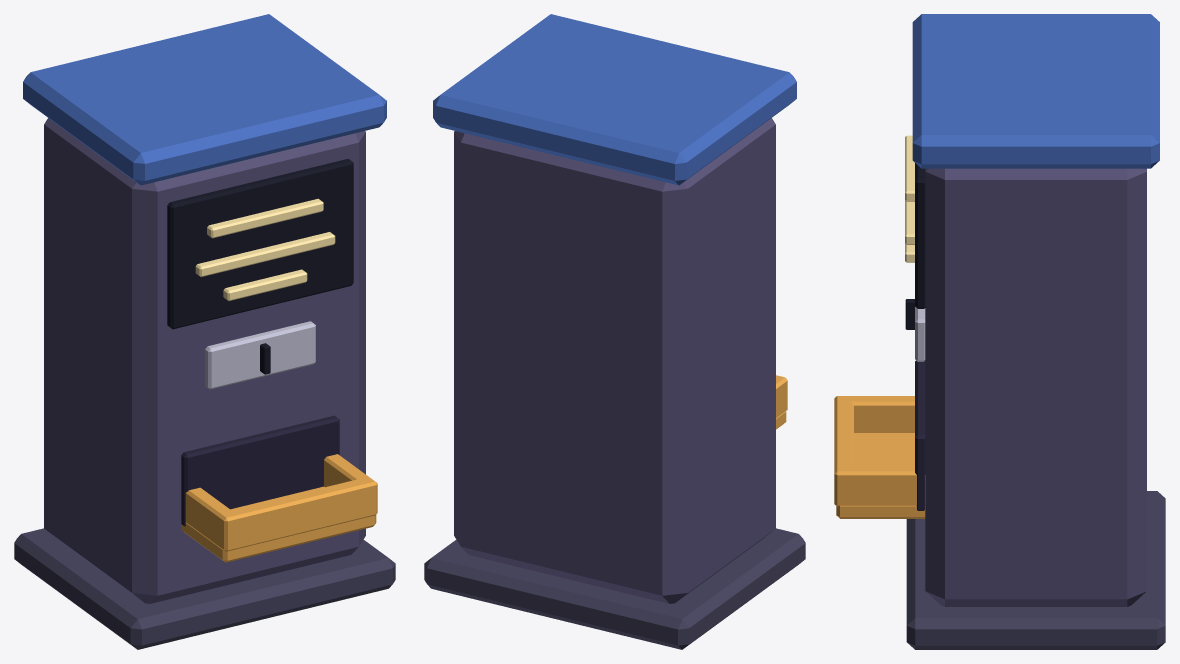
File: 05_Token_Exchange_Kiosk.glb
The picture shows the model from 3 angles, left to right: view 1: azimuth 30°, elevation 25°; view 2: azimuth 150°, elevation 25°; view 3: azimuth 270°, elevation 25°; orthographic projection. The views are drawn at different scales.
Visible parts, largest first — view 1: 05_Token_Exchange_Kiosk__Body; view 2: 05_Token_Exchange_Kiosk__Body; view 3: 05_Token_Exchange_Kiosk__Body.
Part boxes in pixels (box(x1,y1,x2,y2)): 05_Token_Exchange_Kiosk__Body: box(14, 14, 395, 649); 05_Token_Exchange_Kiosk__Body: box(424, 14, 805, 649); 05_Token_Exchange_Kiosk__Body: box(834, 14, 1165, 649).
Bounding box in the file's own units: 1.62 × 2.88 × 1.69.
Materials: 1 (1 with a texture image).
